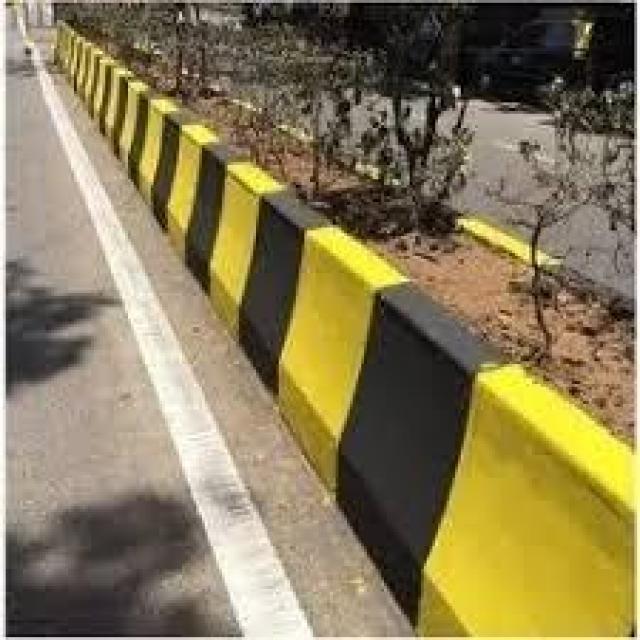curb: (368, 392, 632, 640), (258, 295, 483, 499), (188, 124, 277, 347), (118, 60, 177, 225), (58, 26, 105, 103)
